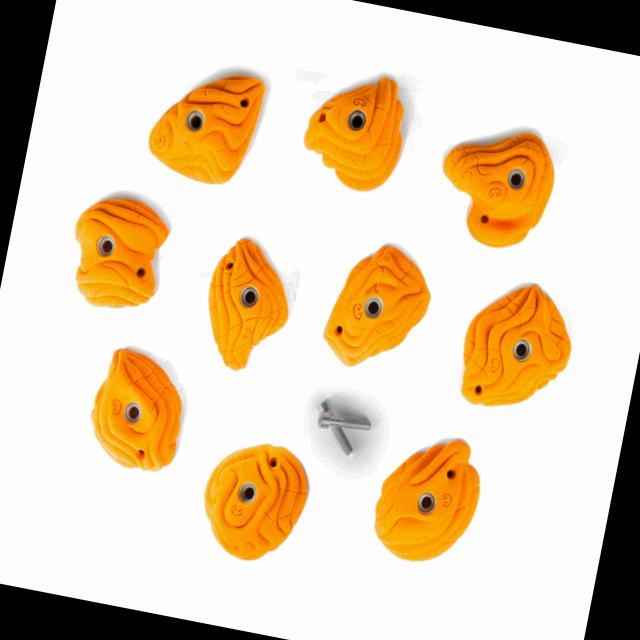Hold: (449, 262, 584, 424), (422, 112, 566, 255), (367, 418, 495, 578), (313, 237, 443, 384), (288, 54, 418, 200), (138, 48, 269, 192), (190, 438, 318, 570), (192, 227, 297, 377), (79, 342, 191, 480), (61, 196, 182, 312)
